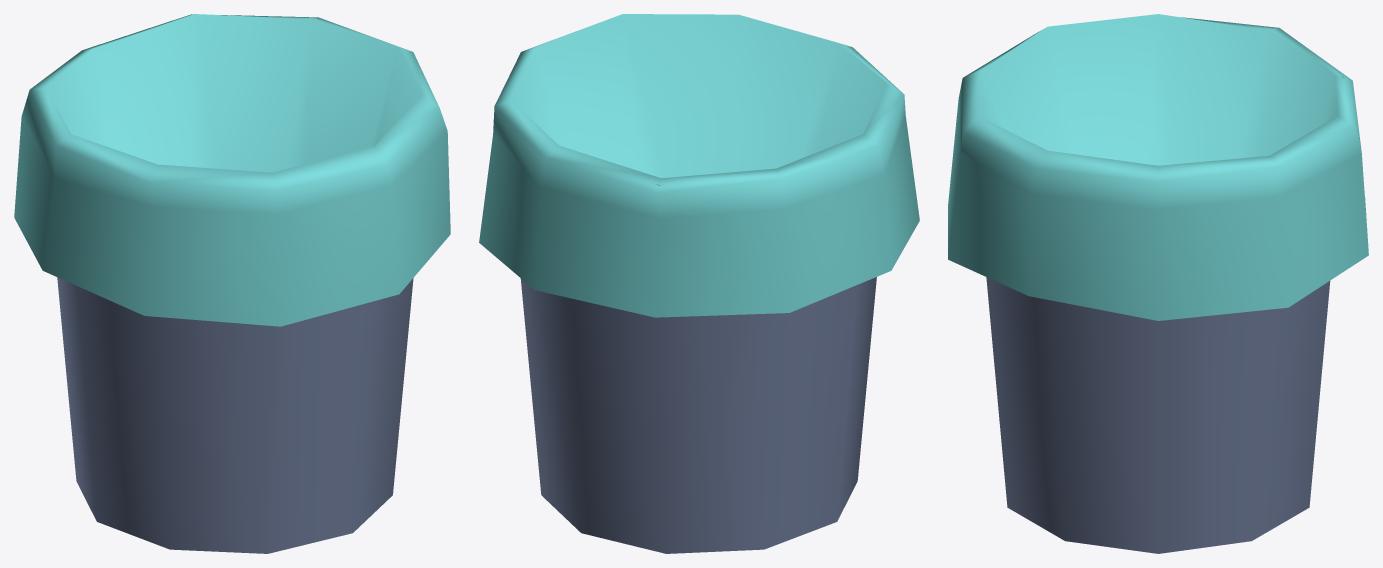
File: papelera.gltf
3 renders of one model, left to right at view 1: azimuth 30°, elevation 25°; view 2: azimuth 150°, elevation 25°; view 3: azimuth 270°, elevation 25°, orthographic.
Parts seen in each view (by area): view 1: Waste_Bin; view 2: Waste_Bin; view 3: Waste_Bin.
Boxes of the visible parts, x1,y1,x2,y2 form: Waste_Bin: (14, 14, 450, 553); Waste_Bin: (479, 14, 919, 553); Waste_Bin: (948, 14, 1368, 553).
Bounding box in the file's own units: 39.18 × 39.53 × 37.63.
